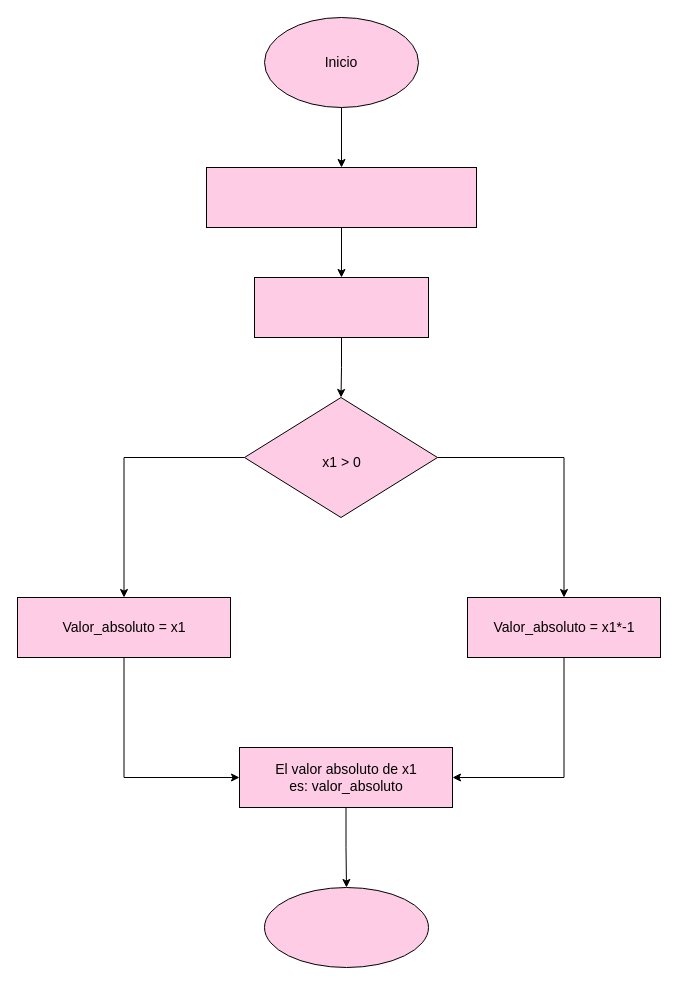
Image size: 678x985. Some labels were removed from this diagram. Each missing label, with the centre of its shape:
Fin: the point at 346,927
Por favor digite un número entero: the point at 341,197
x1=int(input()): the point at 341,307
